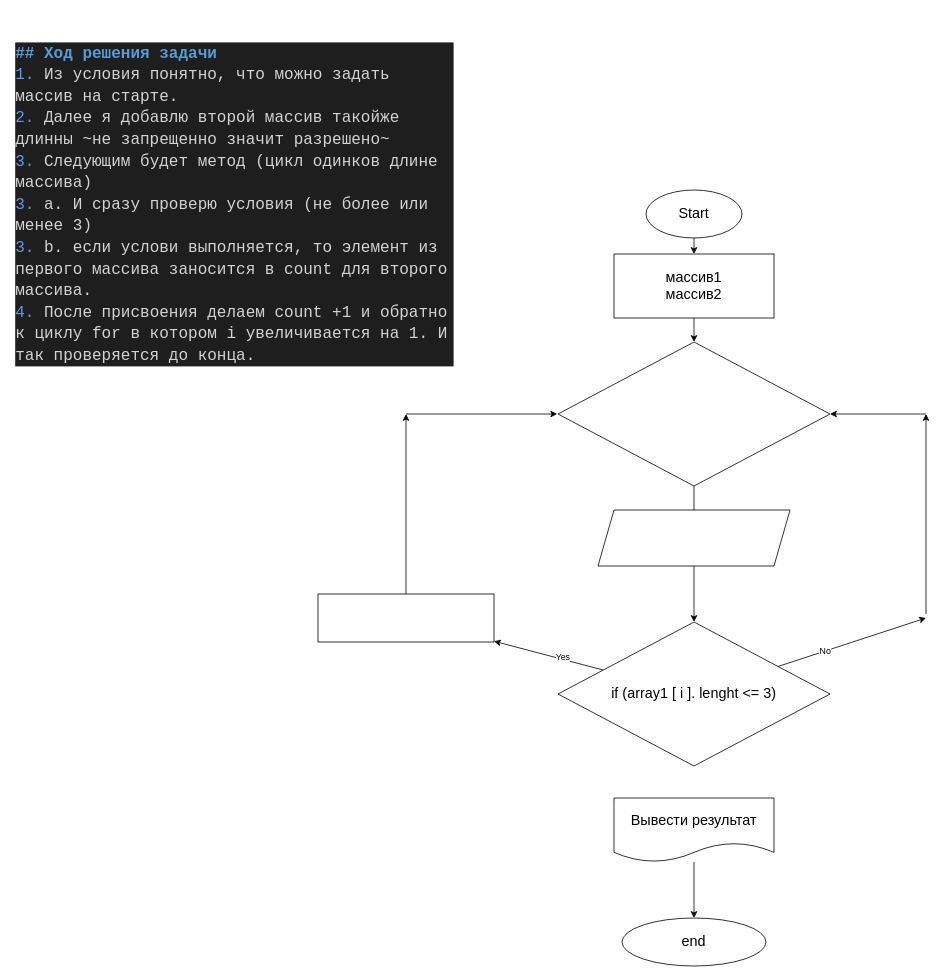
The diagram is 946 pixels wide and 980 high, and some of its shapes have lost their labels. Each missing label, with the box of its shape:
array2[count] = array1[1] count++: (317, 593, 494, 642)
ц икл перенос длины массива1 в массив2 i < array1.lenght; i++: (557, 341, 830, 486)
